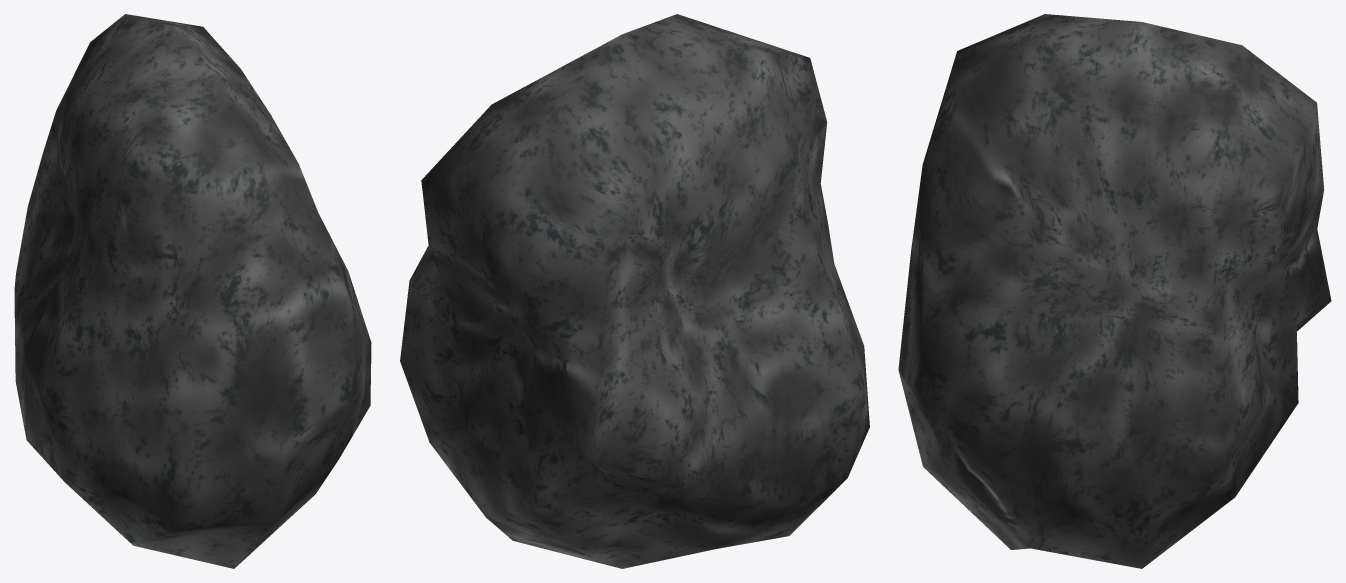
The model's file is asteroid.glb.
3 views of the same model, side by side, from view 1: azimuth 30°, elevation 25°; view 2: azimuth 150°, elevation 25°; view 3: azimuth 270°, elevation 25° (orthographic). The views are drawn at different scales.
Visible parts, largest first — view 1: asteroid; view 2: asteroid; view 3: asteroid.
Boxes of the visible parts, x1,y1,x2,y2 form: asteroid: (14,14,371,568); asteroid: (400,14,869,568); asteroid: (898,14,1331,568).
Bounding box in the file's own units: 1.49 × 2.16 × 1.61.
Materials: 1 (1 with a texture image).
